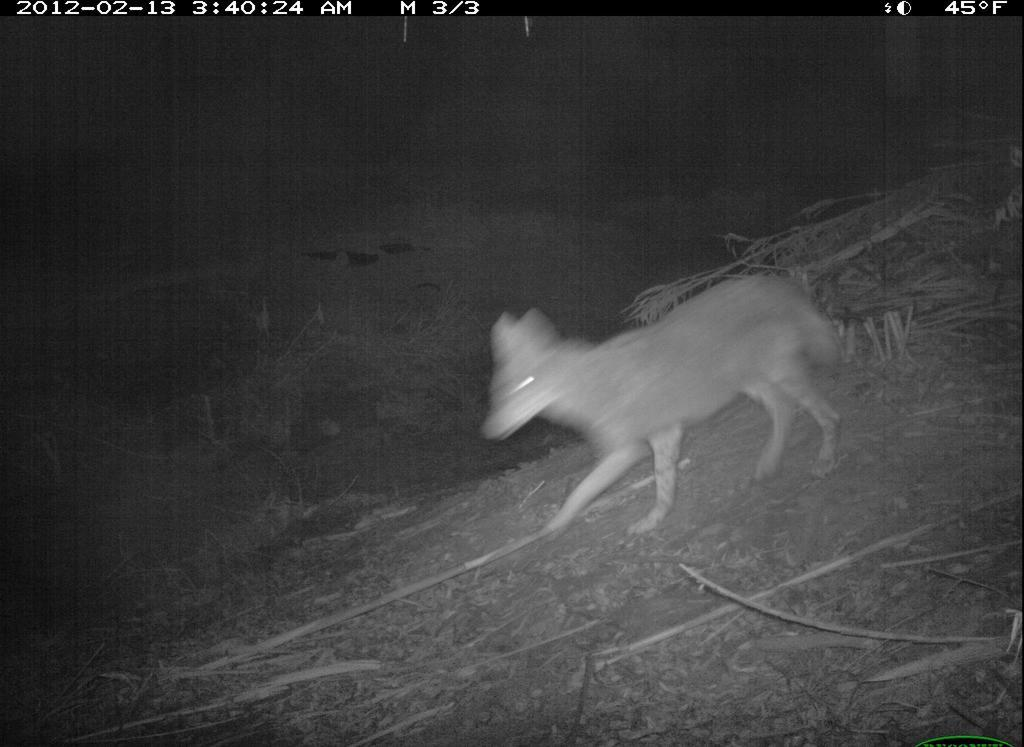coyote: (475, 269, 852, 548)
